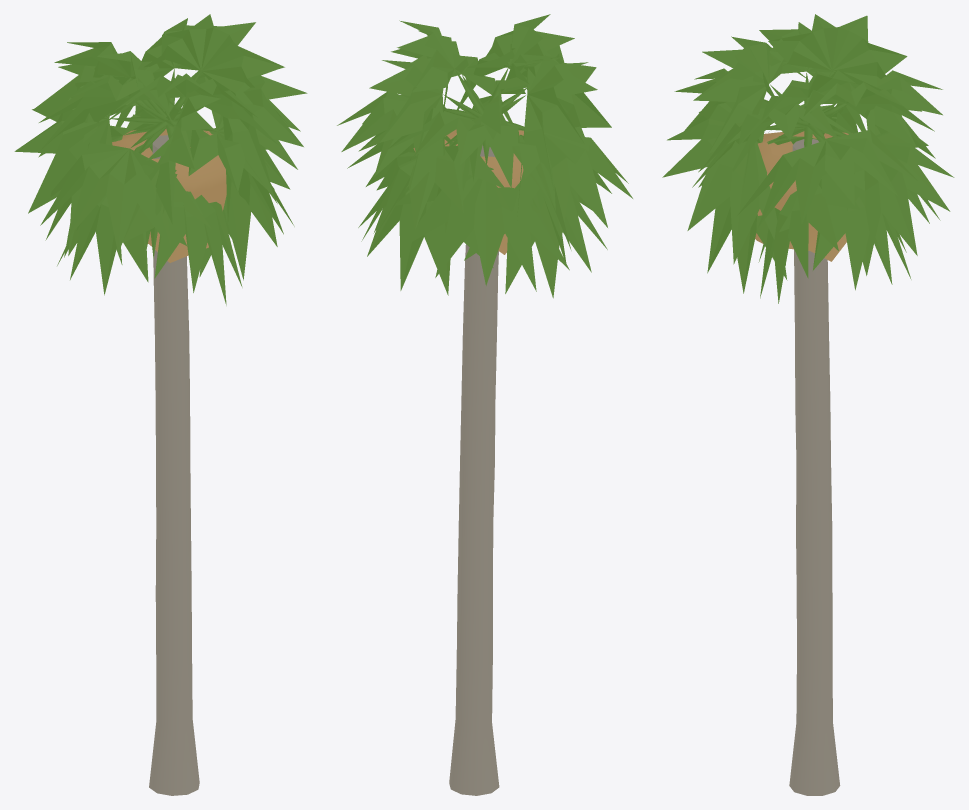
Rendered from Blender_FanPalm_2.glb.
The picture shows the model from 3 angles, left to right: view 1: azimuth 30°, elevation 25°; view 2: azimuth 150°, elevation 25°; view 3: azimuth 270°, elevation 25°; orthographic projection.
Parts seen in each view (by area): view 1: Blender_FanPalm_2; view 2: Blender_FanPalm_2; view 3: Blender_FanPalm_2.
Boxes of the visible parts, left/top/right/bottom form: Blender_FanPalm_2: left=14, top=14, right=307, bottom=795; Blender_FanPalm_2: left=337, top=14, right=632, bottom=795; Blender_FanPalm_2: left=662, top=14, right=954, bottom=795.
Bounding box in the file's own units: 5.55 × 15.59 × 5.63.
